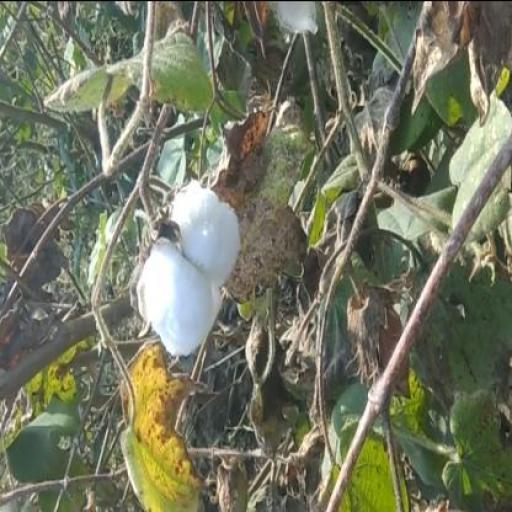cotton_ready: (132, 164, 245, 366)
